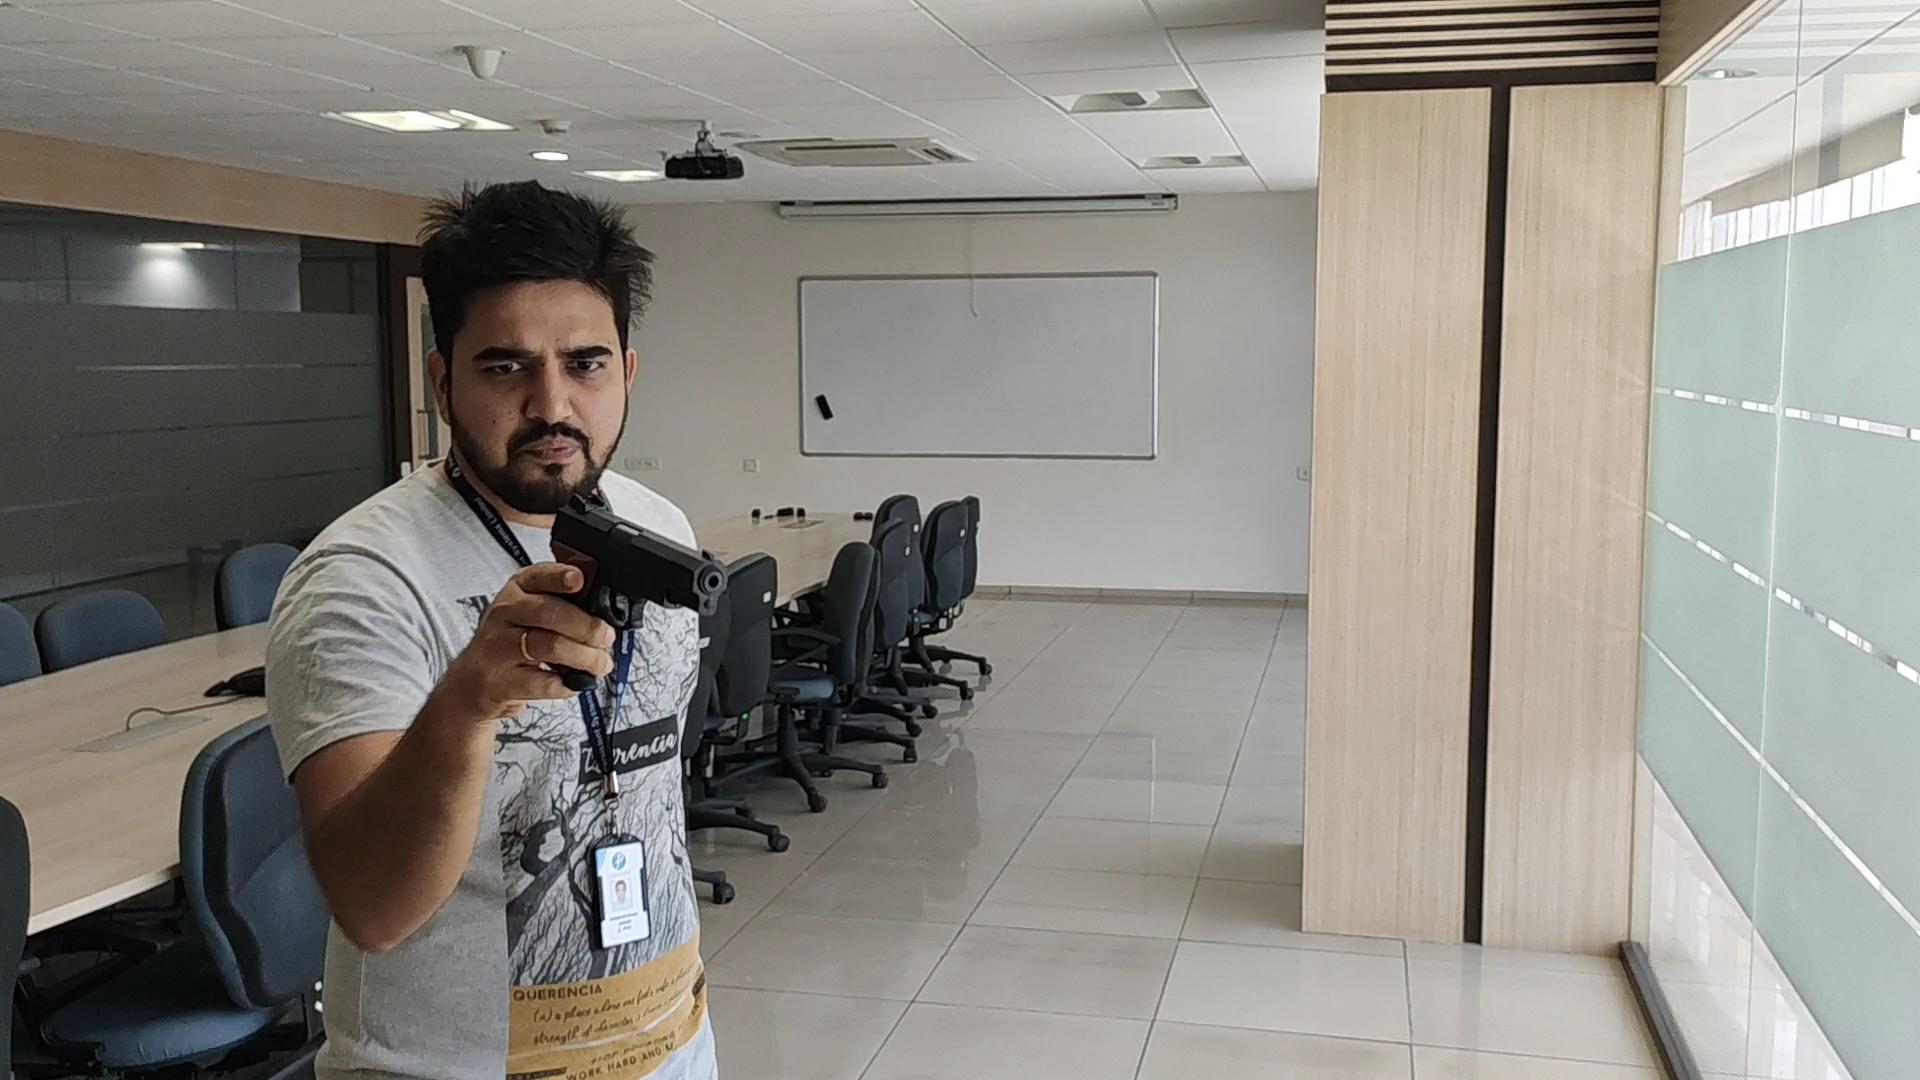gun: (554, 493, 724, 615)
